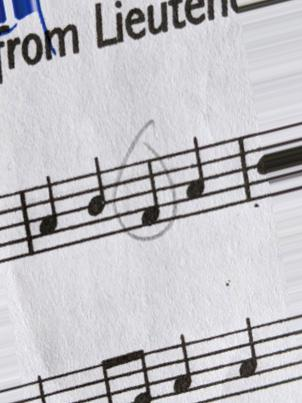A: (182, 133, 210, 223), (168, 331, 203, 402), (233, 314, 261, 396), (33, 173, 60, 255)
B: (79, 154, 111, 240)
F: (138, 156, 164, 235)
